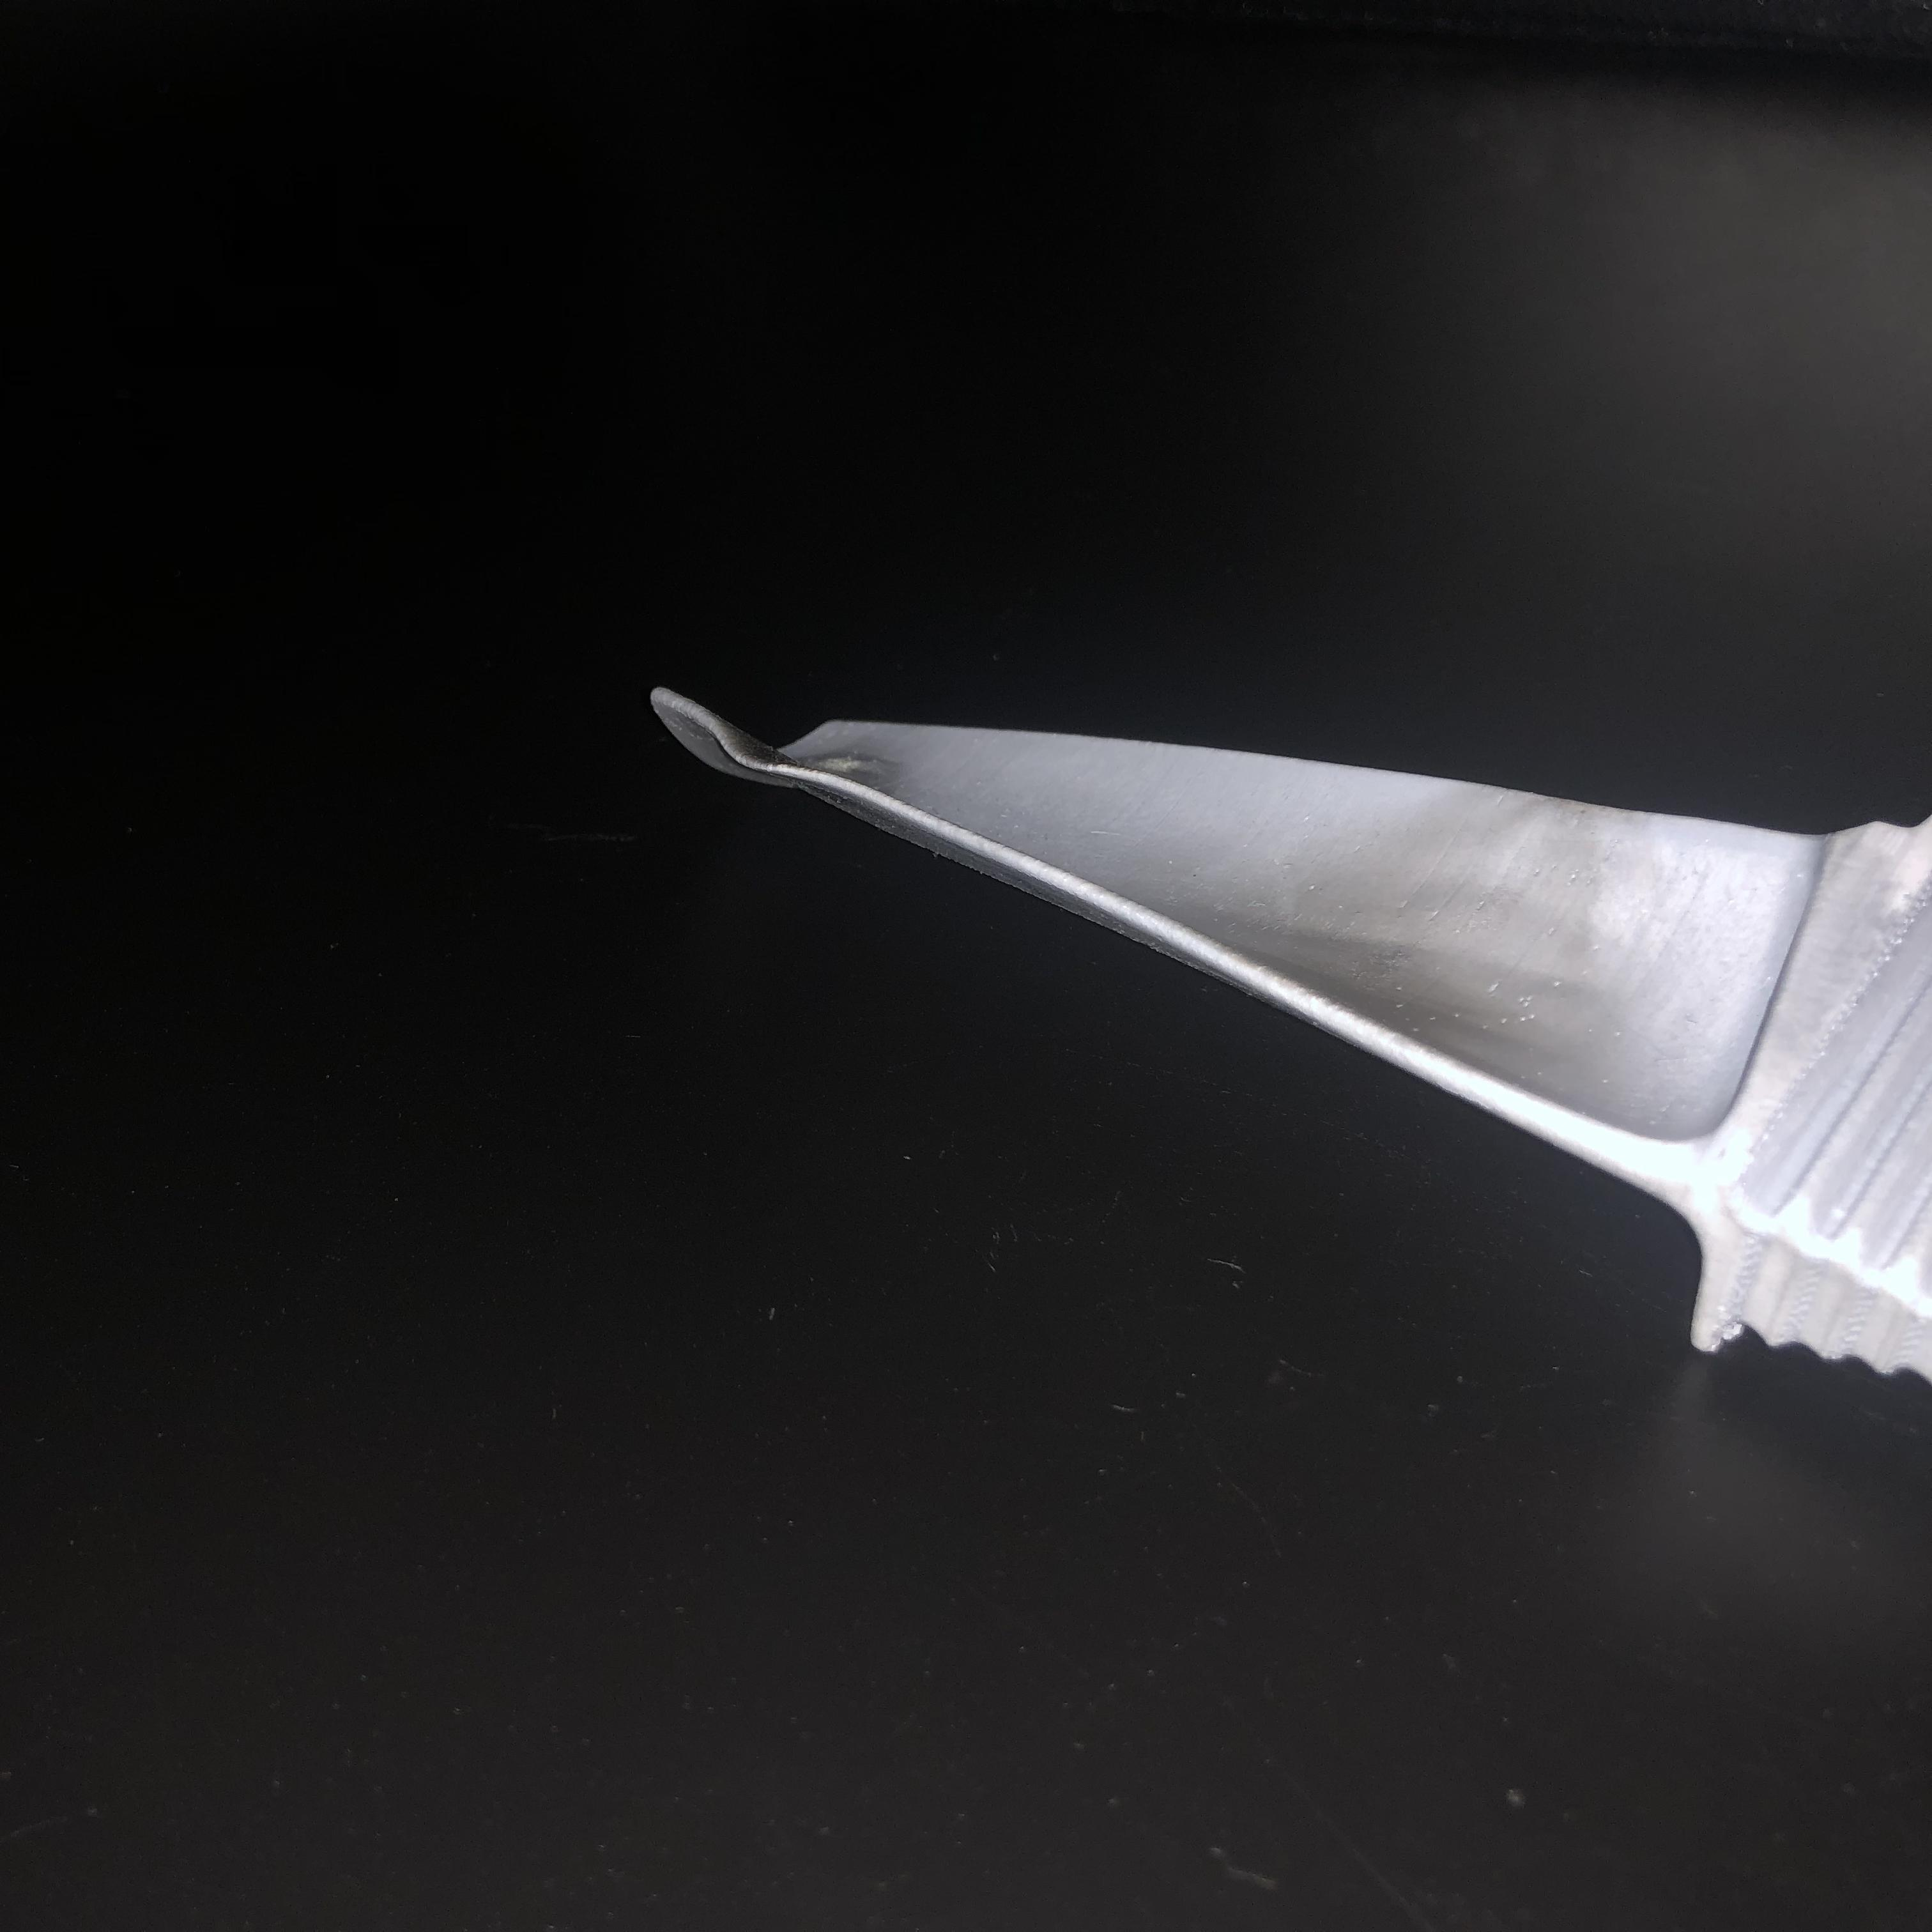ablation: (1304, 793, 1631, 1079), (734, 713, 915, 803)
